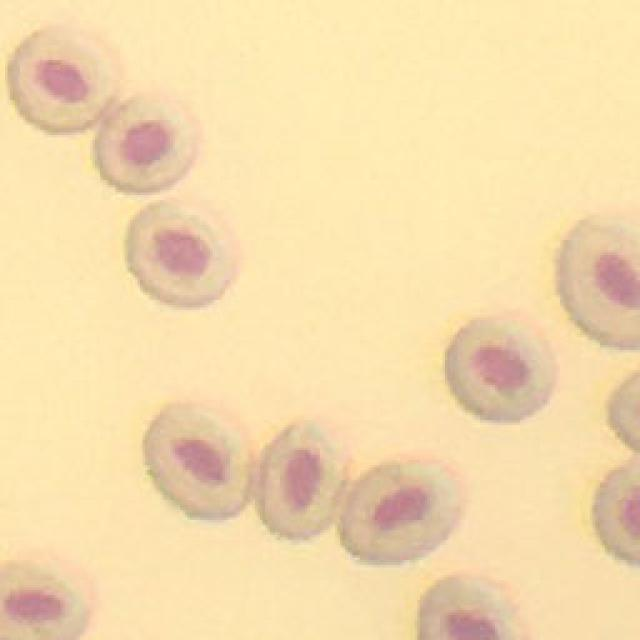RBC: (342, 462, 462, 565), (145, 404, 250, 521), (128, 200, 238, 308), (8, 28, 118, 132), (448, 320, 558, 424), (560, 218, 640, 350), (260, 422, 345, 540), (98, 100, 198, 192), (0, 565, 88, 640), (418, 580, 521, 640), (595, 458, 640, 562)
